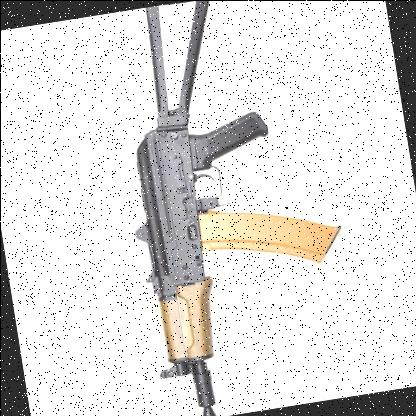rifle: (70, 0, 364, 416)
